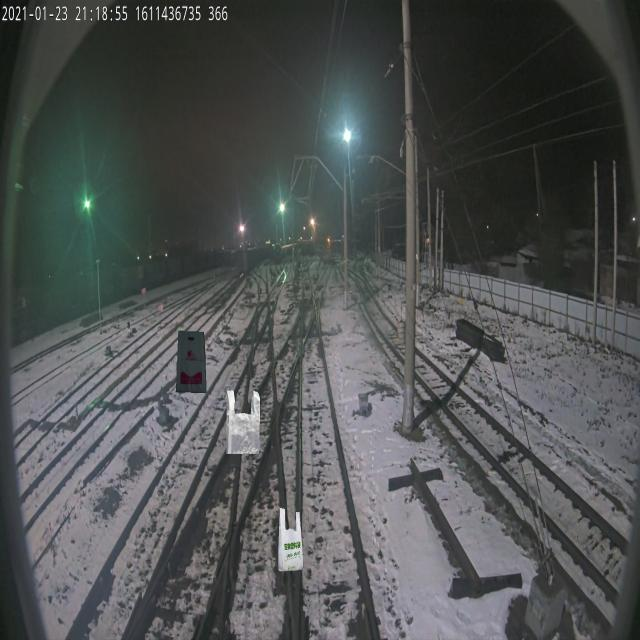plastic bag: (226, 390, 260, 454), (176, 330, 206, 394), (278, 508, 303, 572)
